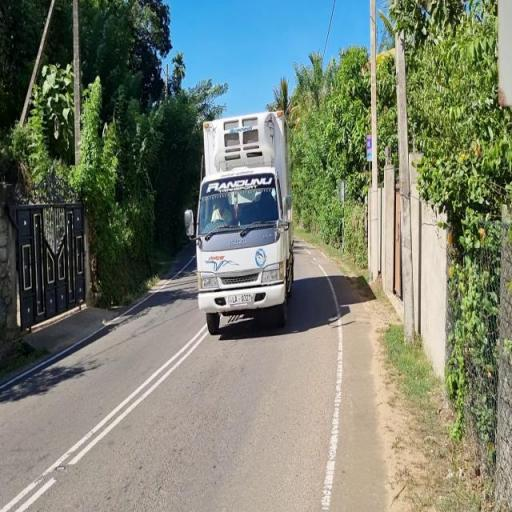double_white_line: (0, 323, 206, 509)
